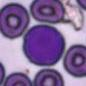L: (22, 25, 66, 66)
